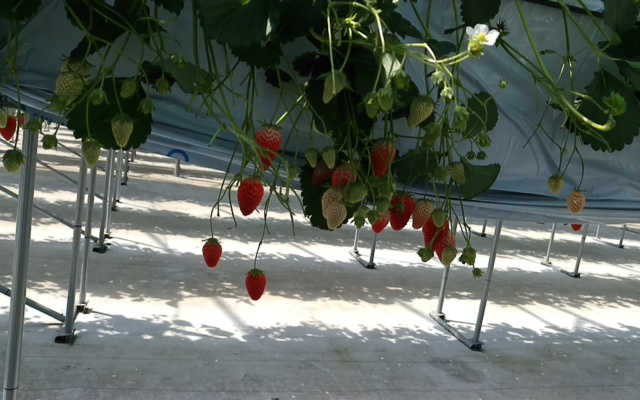GreenStrawberry: (52, 63, 88, 108), (406, 95, 434, 131), (112, 112, 135, 149), (321, 70, 345, 105), (79, 138, 101, 173), (320, 188, 343, 220), (411, 198, 433, 231), (324, 201, 347, 231), (2, 150, 26, 175), (565, 190, 587, 216), (374, 84, 394, 111), (319, 146, 339, 171), (363, 91, 380, 119), (119, 77, 138, 101), (546, 174, 565, 196), (346, 185, 369, 203), (302, 148, 319, 169), (371, 198, 389, 216), (441, 247, 456, 268), (417, 247, 434, 264)
MatureStrawberry: (253, 123, 284, 174), (235, 175, 267, 216), (422, 210, 449, 254), (387, 190, 414, 233), (369, 138, 397, 178), (245, 269, 268, 303), (436, 229, 458, 263), (368, 203, 391, 235), (332, 165, 358, 193), (201, 238, 223, 269)
